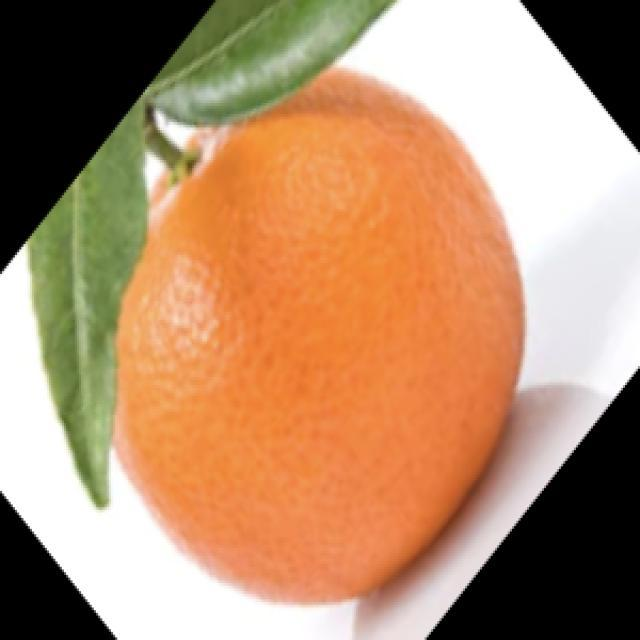Orange: (110, 65, 526, 605)
